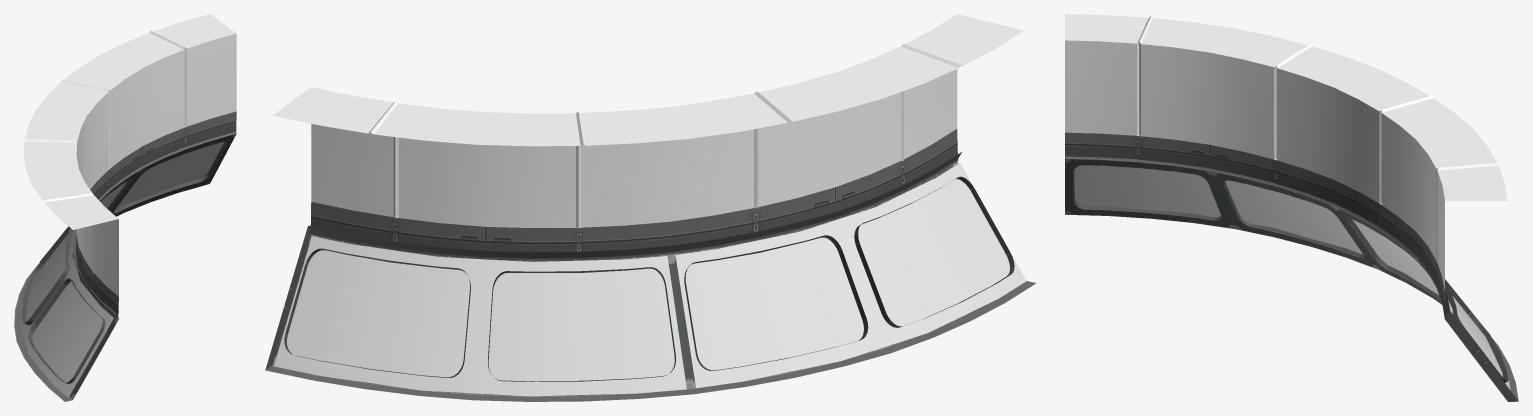
File: TopWindow_Corner_Curve_Inner.glb
3 renders of one model, left to right at view 1: azimuth 30°, elevation 25°; view 2: azimuth 150°, elevation 25°; view 3: azimuth 270°, elevation 25°, orthographic. The views are drawn at different scales.
Visible parts, largest first — view 1: TopWindow_Corner_Curve_Inner; view 2: TopWindow_Corner_Curve_Inner; view 3: TopWindow_Corner_Curve_Inner.
Part boxes in pixels (bbox=[...]): TopWindow_Corner_Curve_Inner: bbox=[14, 14, 236, 401]; TopWindow_Corner_Curve_Inner: bbox=[265, 14, 1036, 401]; TopWindow_Corner_Curve_Inner: bbox=[1065, 14, 1518, 401].
Bounding box in the file's own units: 4.1 × 2.02 × 4.1.
Materials: 4 (2 with a texture image).
